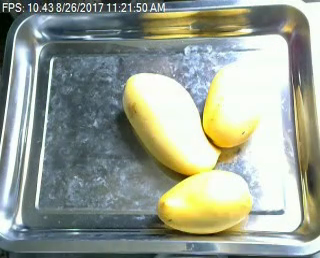Mango: (123, 72, 219, 175), (156, 169, 251, 232), (203, 61, 267, 147)
